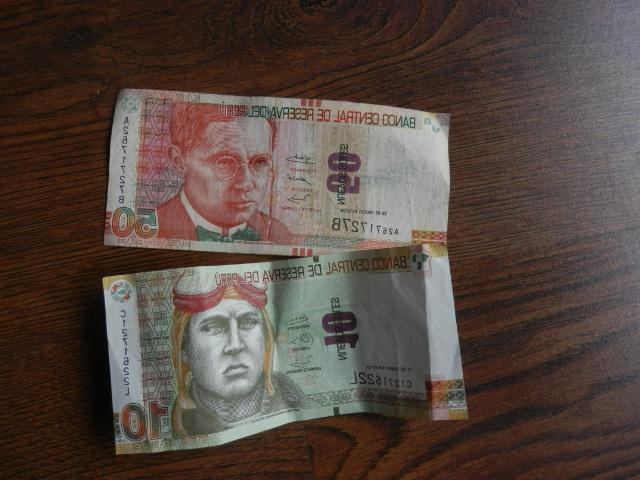B10: (104, 260, 456, 456)
B50: (105, 89, 451, 260)
